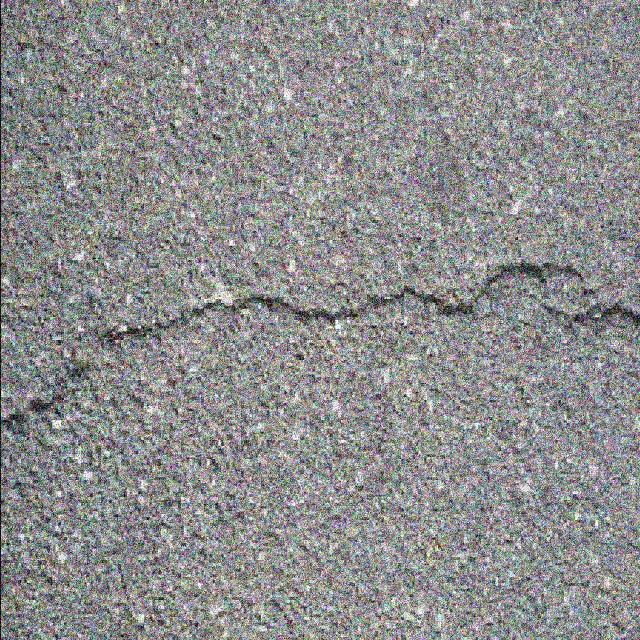SurfaceCrack: (0, 230, 636, 468)
